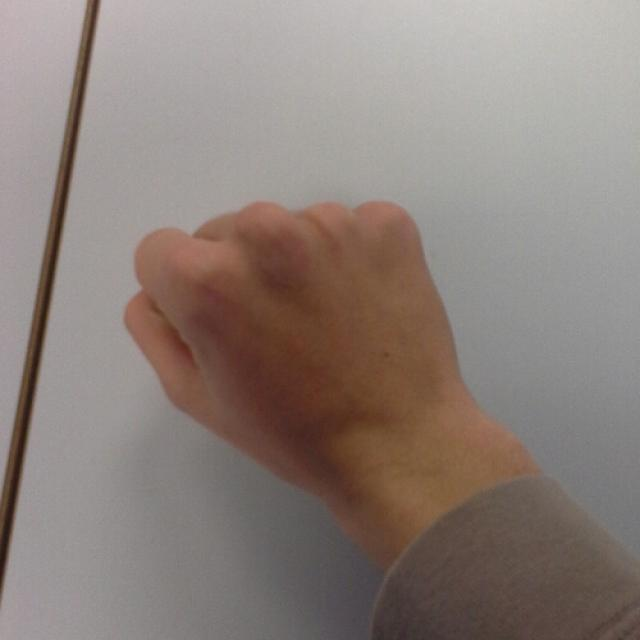rock: (112, 196, 460, 494)
